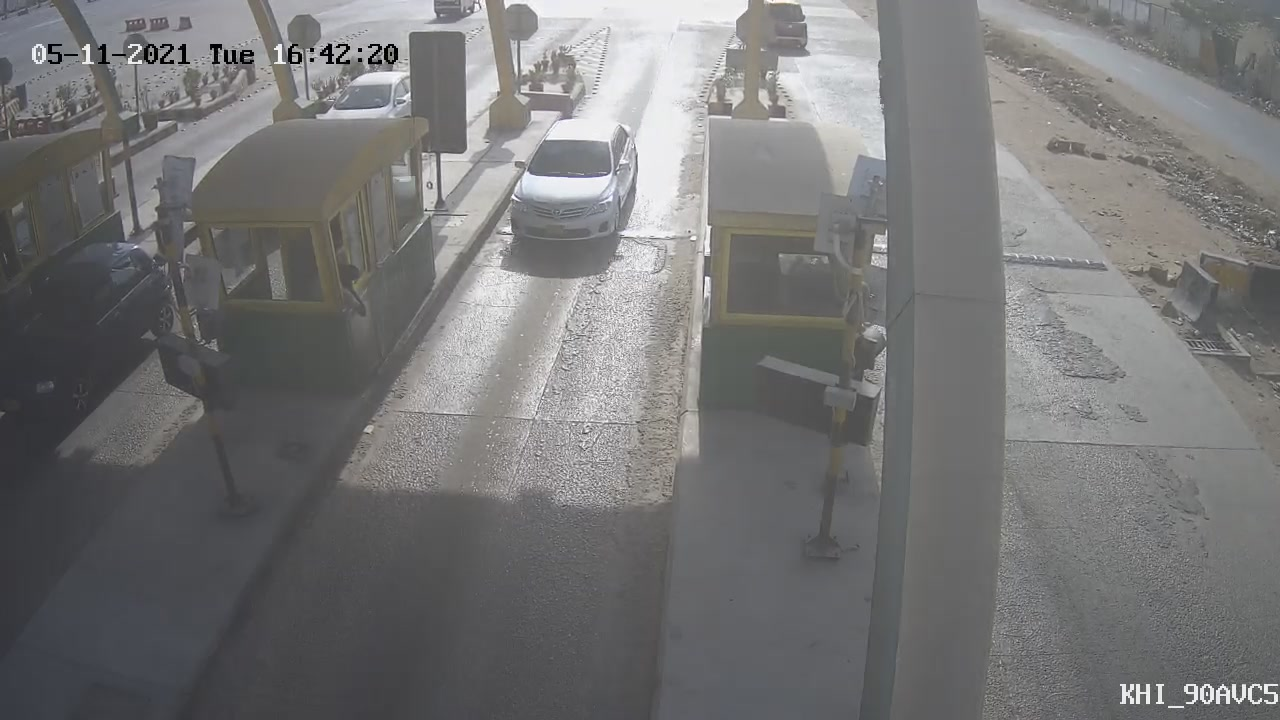F1: (482, 103, 656, 262)
